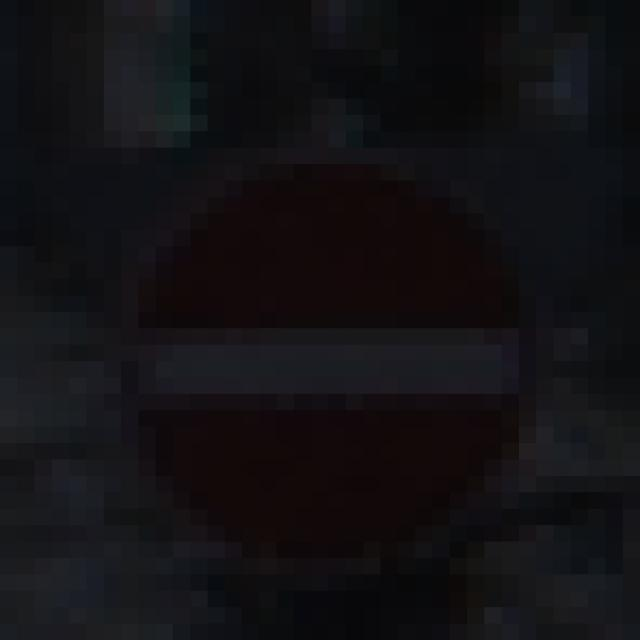No Entry: (88, 99, 555, 559)
